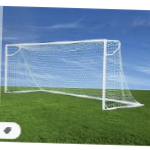goals: (3, 39, 146, 112)
